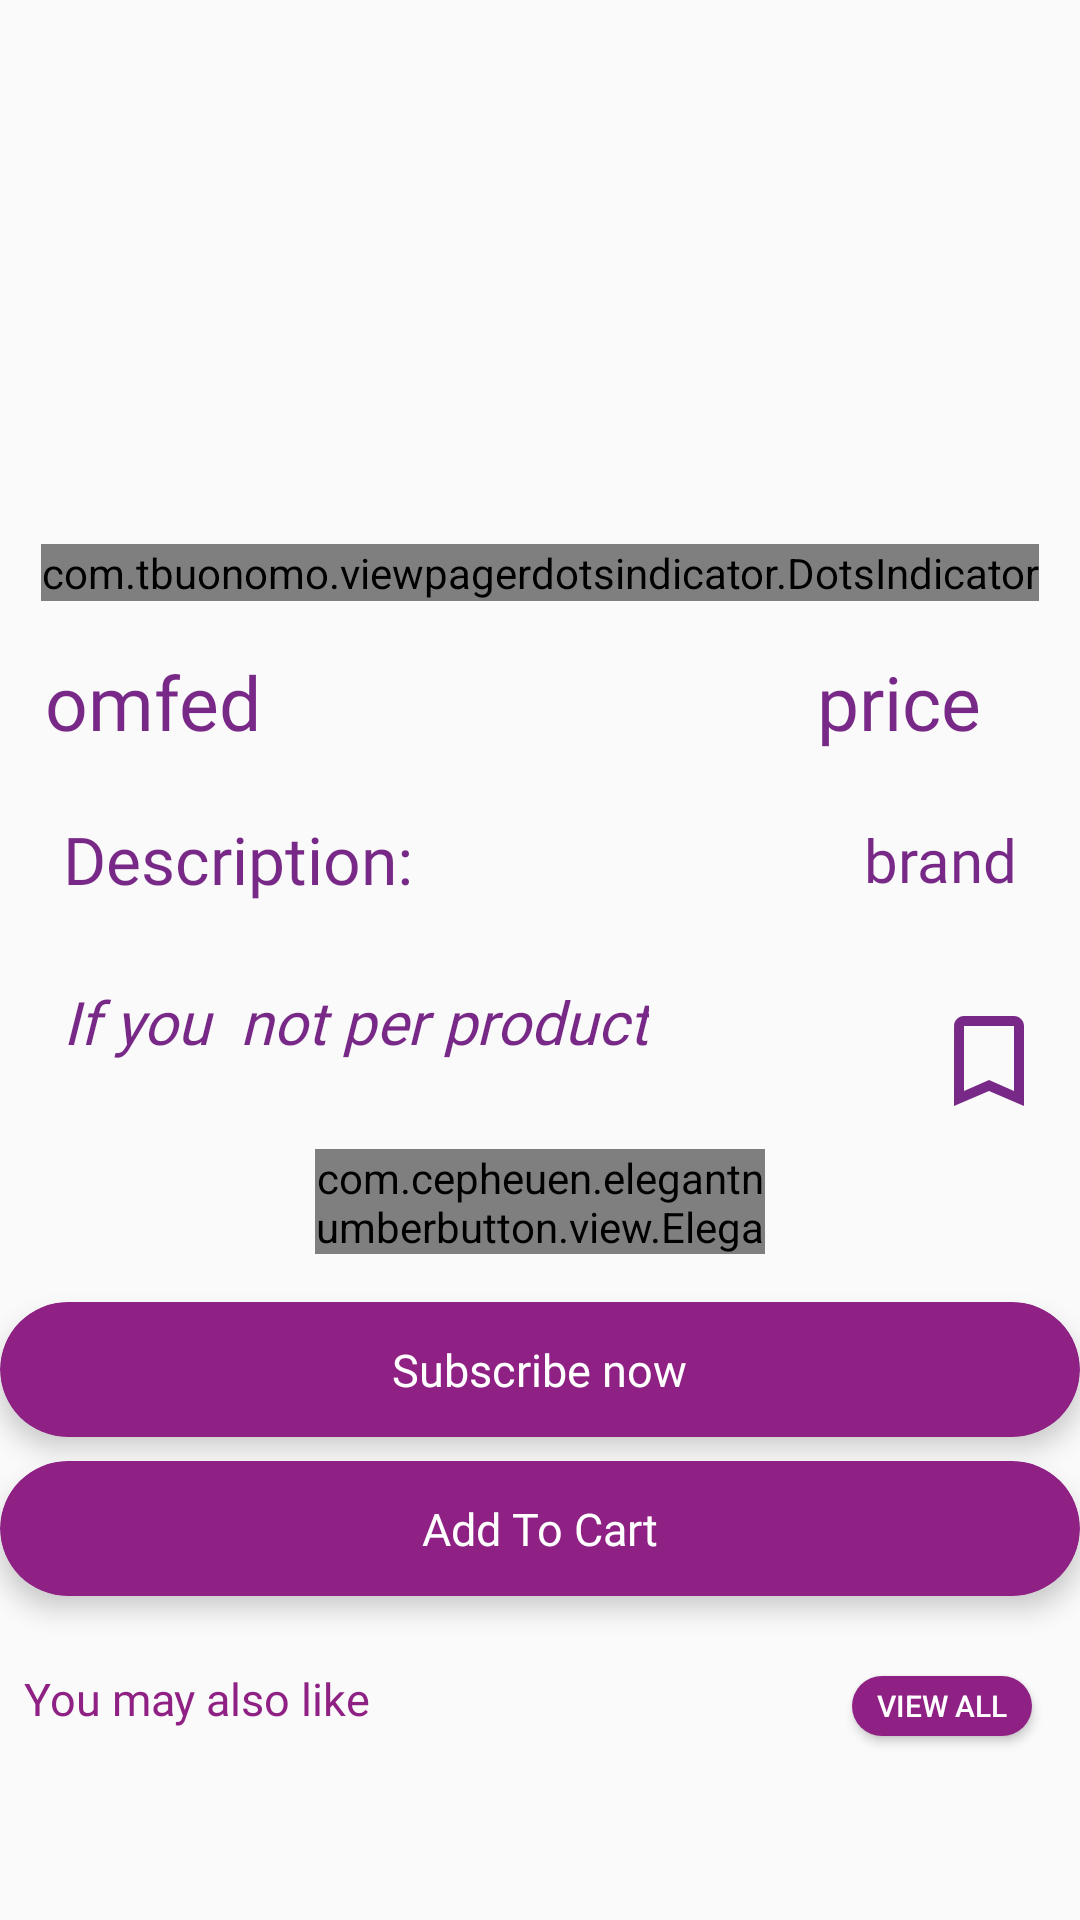

Named icons in this screenshot (1080x1920) and their centers, point (x, y):
notsave: point (989, 1061)
